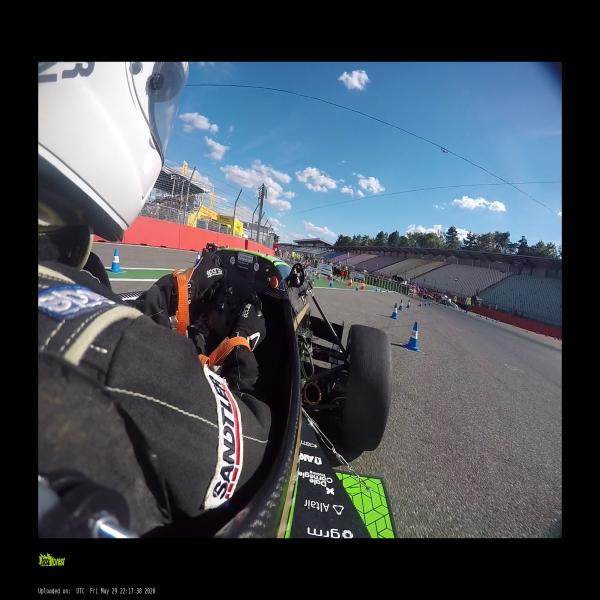blue_cone: (404, 321, 421, 352), (109, 249, 122, 273), (390, 303, 398, 319), (398, 299, 404, 311), (406, 299, 411, 309), (329, 278, 333, 288), (197, 252, 200, 263), (355, 283, 359, 291), (316, 272, 320, 280), (418, 300, 422, 307), (424, 300, 427, 306), (380, 288, 382, 292), (375, 288, 377, 292), (428, 301, 430, 305), (387, 289, 388, 292), (394, 290, 395, 293)
orange_cone: (348, 276, 353, 286), (360, 280, 364, 290)
